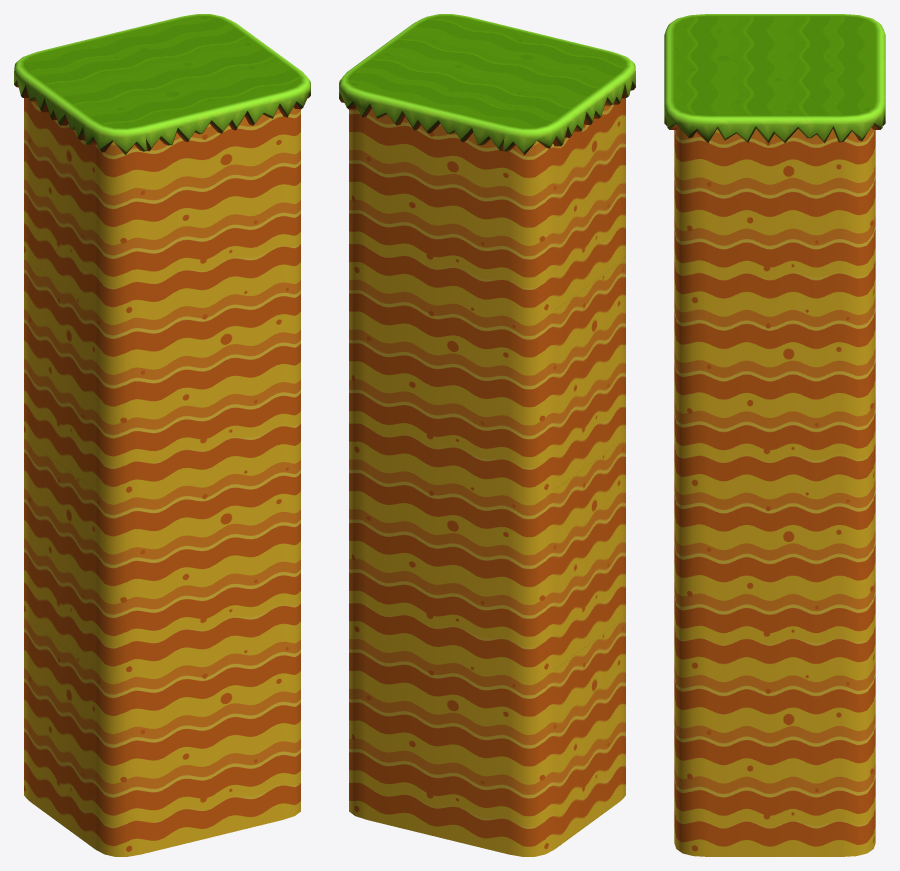
The model's file is SU_Pedestal_Single.FBX.
3 renders of one model, left to right at view 1: azimuth 30°, elevation 25°; view 2: azimuth 150°, elevation 25°; view 3: azimuth 270°, elevation 25°, orthographic.
Parts seen in each view (by area): view 1: g_groundOne_003; view 2: g_groundOne_003; view 3: g_groundOne_003.
Part boxes in pixels (x1=…): g_groundOne_003: x1=14, y1=14, x2=310, y2=856; g_groundOne_003: x1=339, y1=14, x2=635, y2=856; g_groundOne_003: x1=664, y1=14, x2=885, y2=856.
Bounding box in the file's own units: 7.59 × 24.35 × 6.59.
